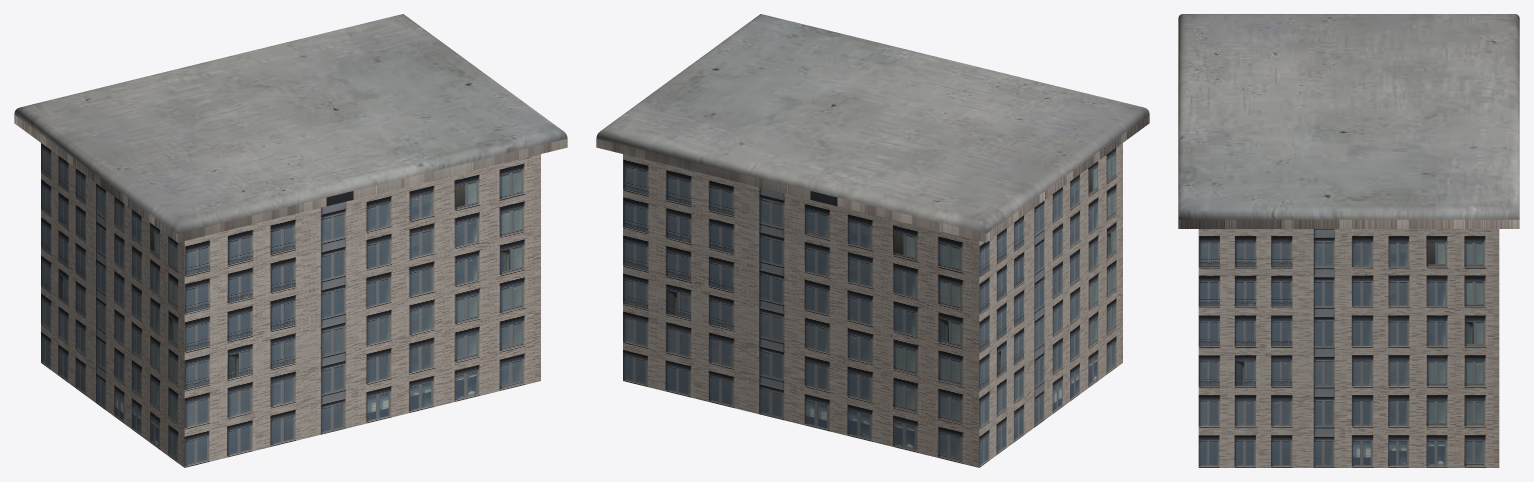
The model's file is 낮은건물4(06-09).FBX.
The picture shows the model from 3 angles, left to right: view 1: azimuth 30°, elevation 25°; view 2: azimuth 150°, elevation 25°; view 3: azimuth 270°, elevation 25°; orthographic projection. The views are drawn at different scales.
Parts seen in each view (by area): view 1: Box001; view 2: Box001; view 3: Box001.
Boxes of the visible parts, left/top/right/bottom form: Box001: left=14, top=14, right=567, bottom=467; Box001: left=596, top=14, right=1149, bottom=467; Box001: left=1178, top=14, right=1519, bottom=467.
Bounding box in the file's own units: 337 × 210 × 244.
